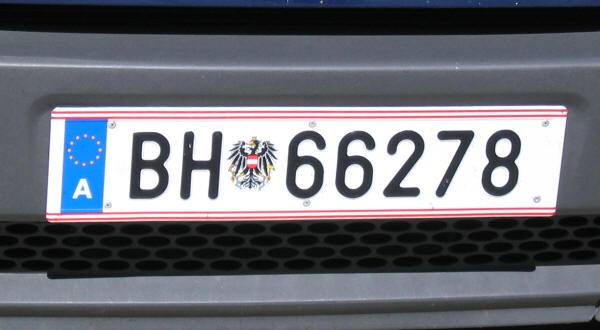license_plate: (43, 106, 569, 218)
